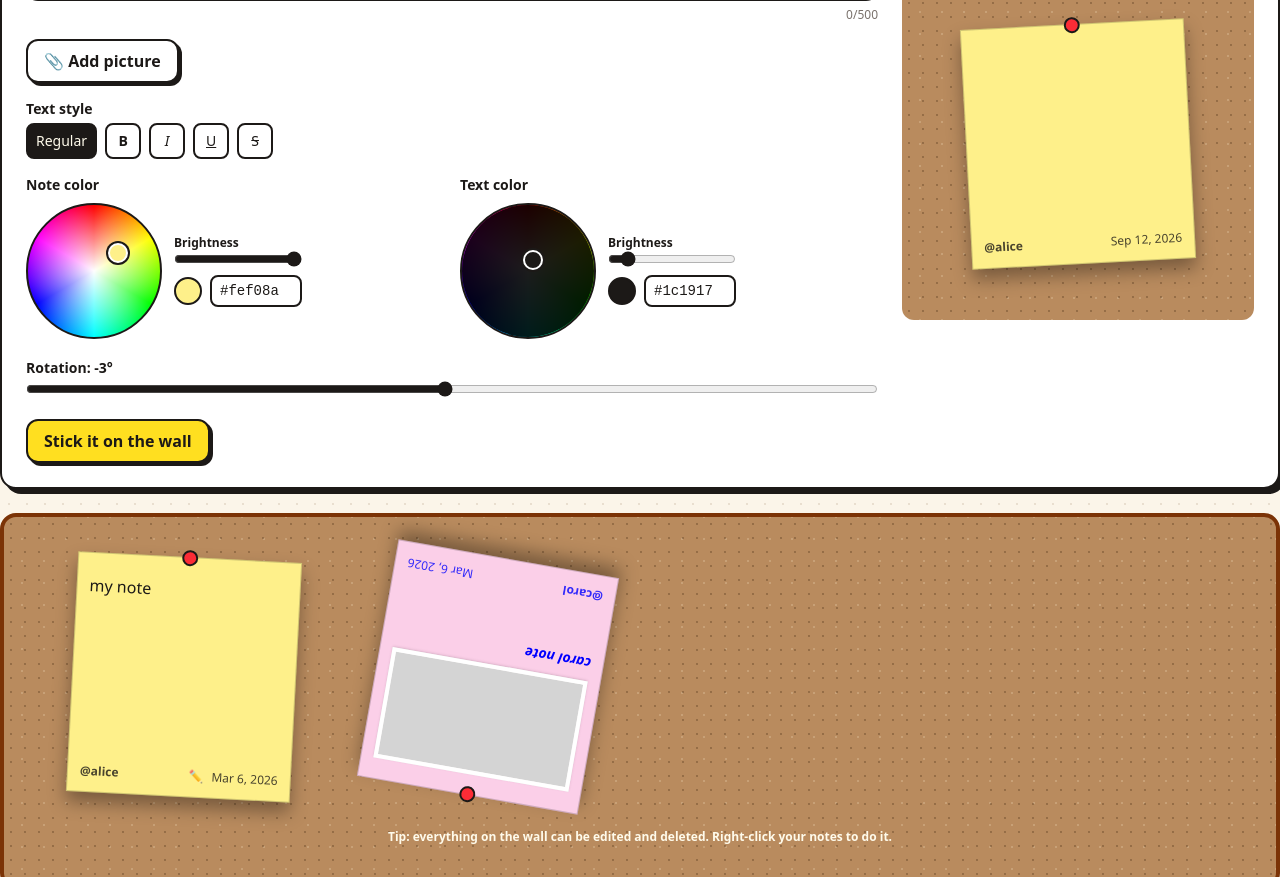
Test: UserWallPage › right-click delete on your own note always says whoops and keeps the note
The image size is (1280, 877).
(page scrolled)
Step 1. Right-click the element named "Note from alice" → (184, 677), box x1=66 y1=551 x2=302 y2=803
(page scrolled)
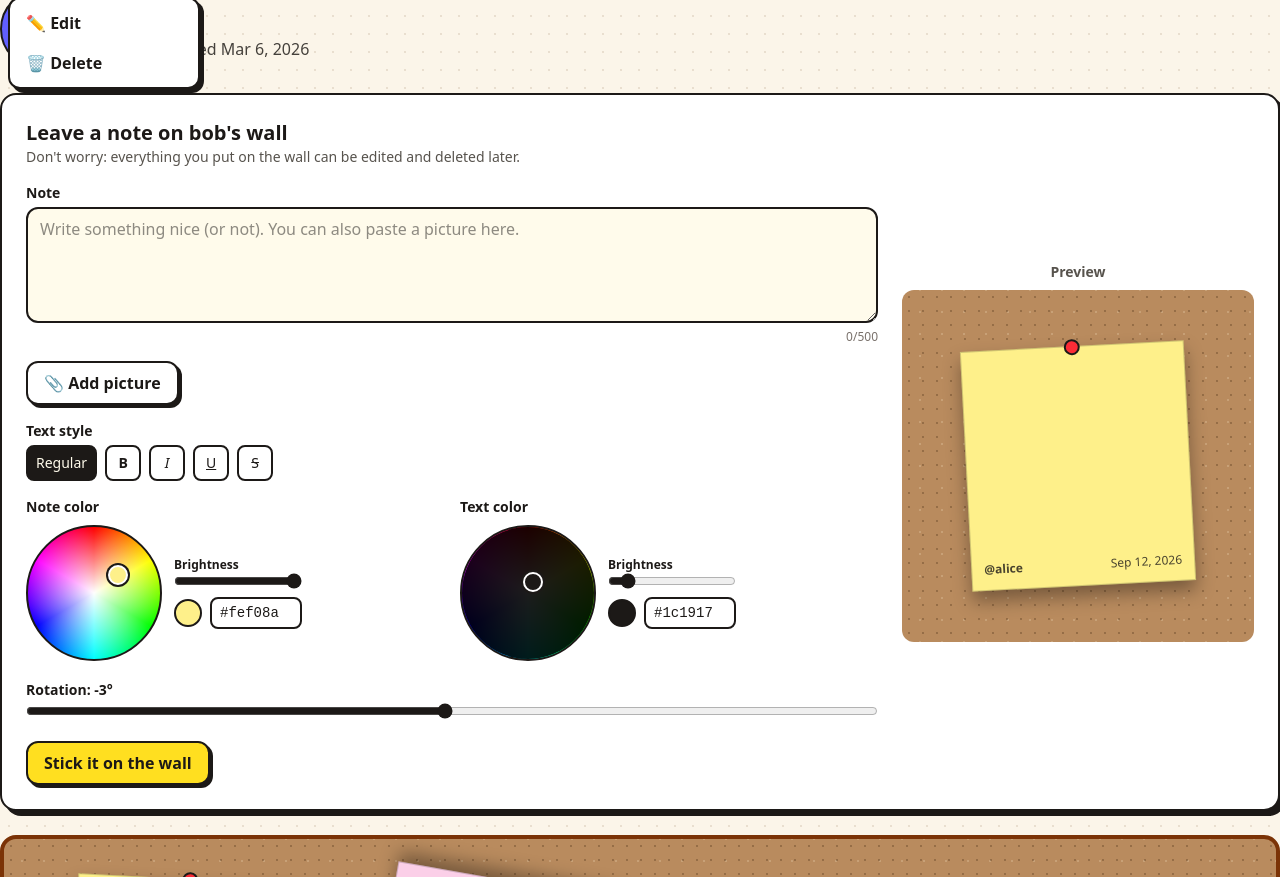
Step 2. Click the menu item "🗑️ Delete" → (104, 63), box x1=10 y1=43 x2=198 y2=83
(page scrolled)
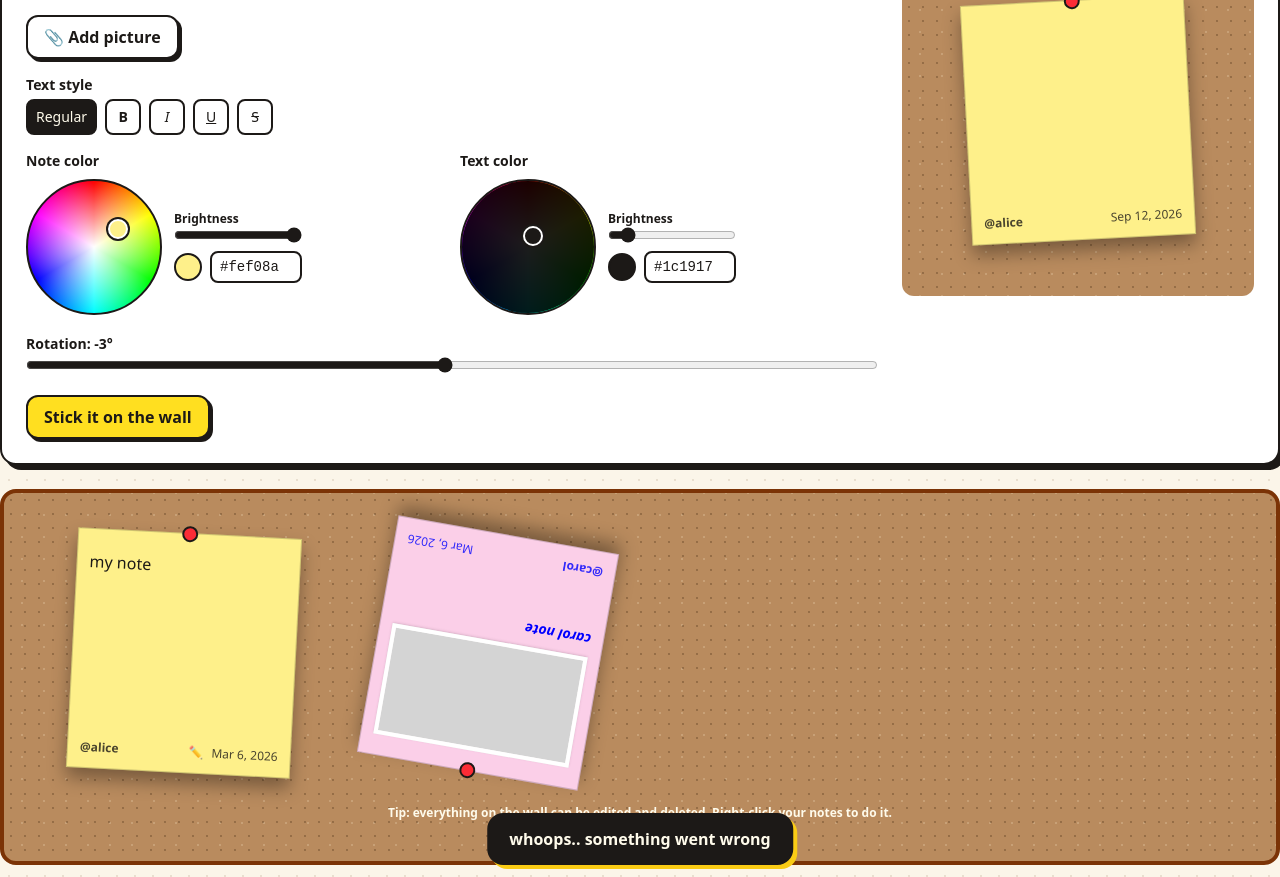
Expected: the element named "Note from alice" shows "my note", x1=89 y1=550 x2=152 y2=575
Now the message reads "whoops.. something went wrong", box x1=509 y1=828 x2=771 y2=850
